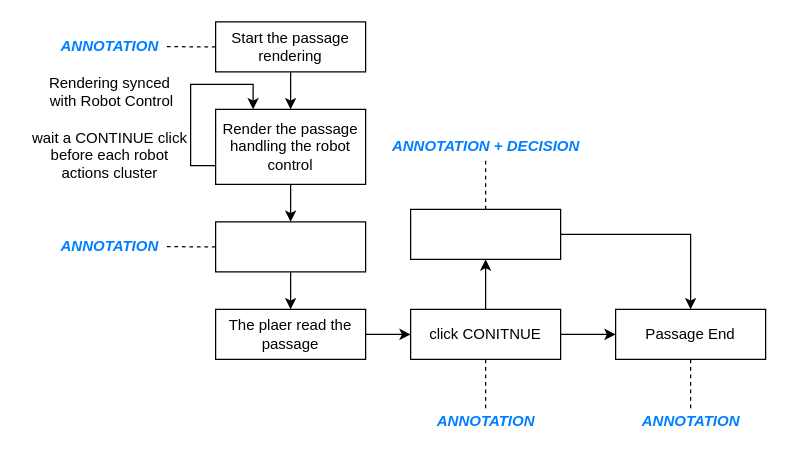
Image size: 788x456. Some labels were removed from this diagram. The box of each missing label's shape, as (x1, y1, x2, y2) in pixels:
Passage Rendering Finished: (214, 221, 366, 272)
Show alternatives + take a decision: (409, 208, 561, 259)
